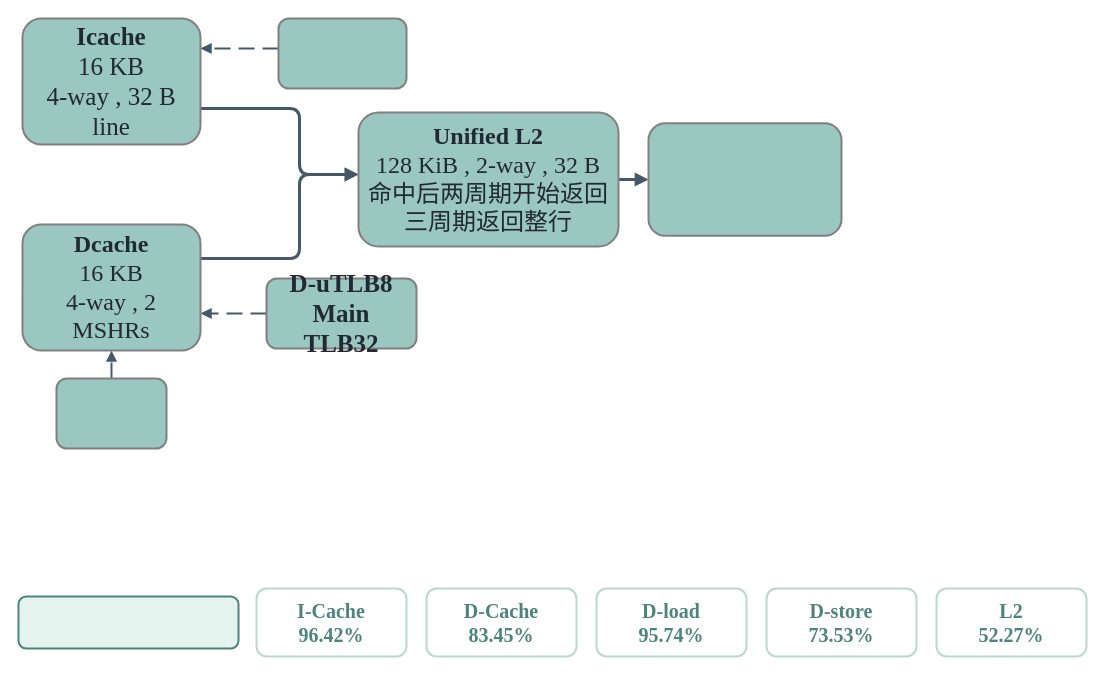
Some shapes in this 1104 by 674 pixel diagram are drawn without their labels. The centre of each missing label's shape, as x and y in pixels:
AXI Bridge SoC / Memory: the point at 744,179
chiplab Linux 仿真命中率: the point at 128,622
I-uTLB8: the point at 342,53
STQ16 SB8: the point at 111,413
